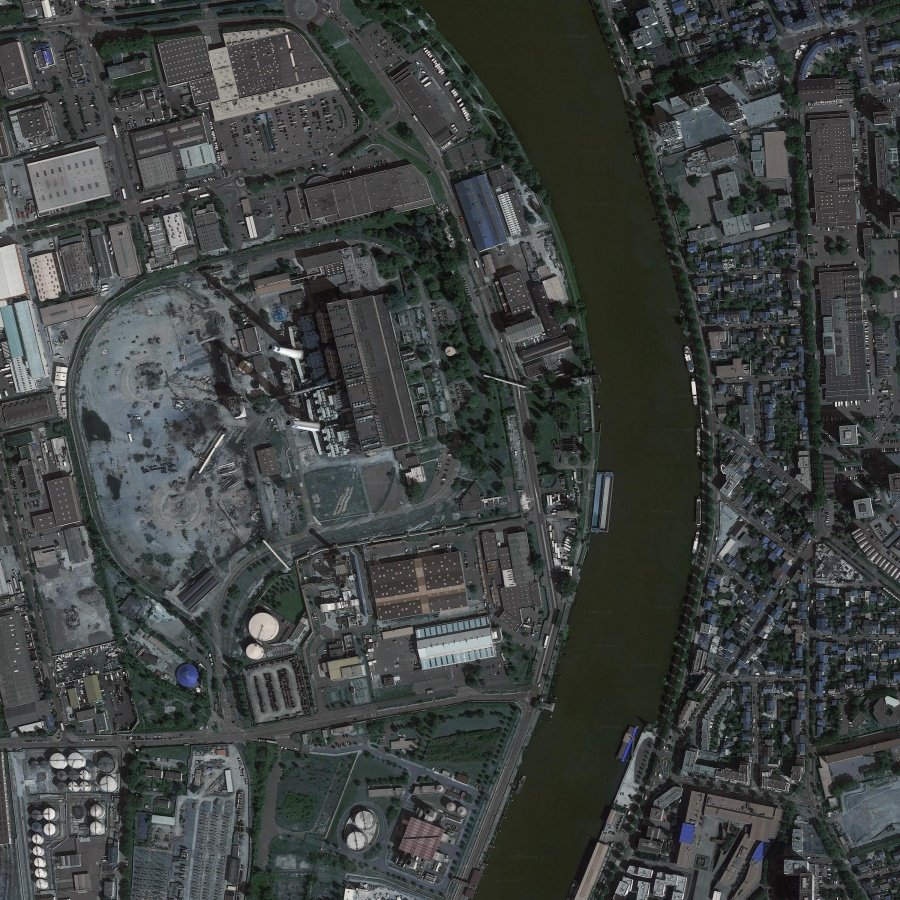PowerPlant: (196, 259, 401, 658)
